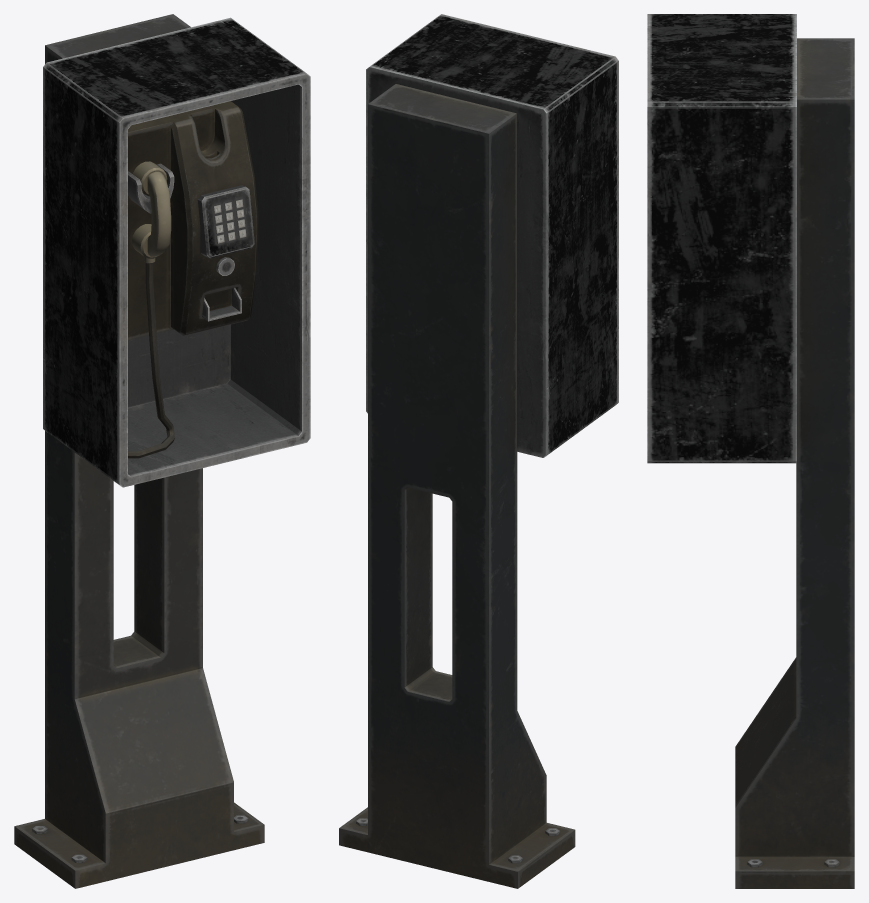
The model's file is payphone.fbx.
The picture shows the model from 3 angles, left to right: view 1: azimuth 30°, elevation 25°; view 2: azimuth 150°, elevation 25°; view 3: azimuth 270°, elevation 25°; orthographic projection. The views are drawn at different scales.
Visible parts, largest first — view 1: payphone; view 2: payphone; view 3: payphone.
Boxes of the visible parts, x1=… form: payphone: x1=14, y1=14, x2=310, y2=888; payphone: x1=339, y1=14, x2=618, y2=888; payphone: x1=647, y1=14, x2=854, y2=888.
Size of the model in its own units: 38.88 by 156 by 37.37.
1 material, 1 textured.
